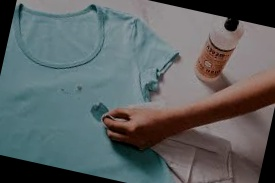oil: (85, 99, 108, 120), (59, 86, 69, 95), (75, 83, 84, 91)
